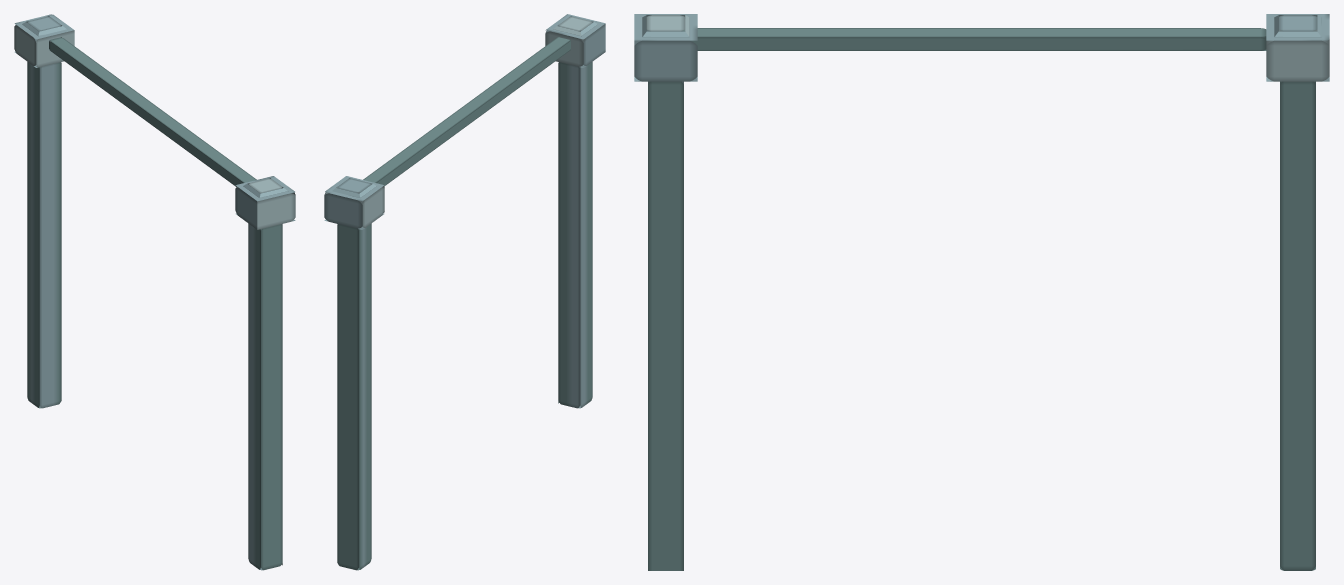
Rendered from pole.fbx.
The picture shows the model from 3 angles, left to right: view 1: azimuth 30°, elevation 25°; view 2: azimuth 150°, elevation 25°; view 3: azimuth 270°, elevation 25°; orthographic projection. The views are drawn at different scales.
Parts seen in each view (by area): view 1: cuboid, cuboid_1; view 2: cuboid, cuboid_1; view 3: cuboid, cuboid_1.
Part boxes in pixels (x1,y1,x2,y2): cuboid: (14, 14, 262, 408); cuboid_1: (235, 176, 295, 570); cuboid: (324, 37, 570, 570); cuboid_1: (545, 14, 605, 408); cuboid: (681, 14, 1329, 570); cuboid_1: (634, 14, 697, 570).
Size of the model in its own units: 8.75 by 82.5 by 96.25.
Materials: 1 (1 with a texture image).
